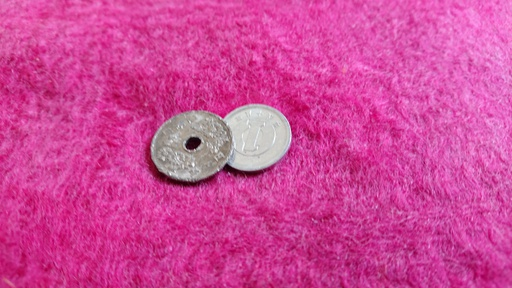1yen: (215, 103, 291, 171)
50yen: (150, 111, 235, 183)
